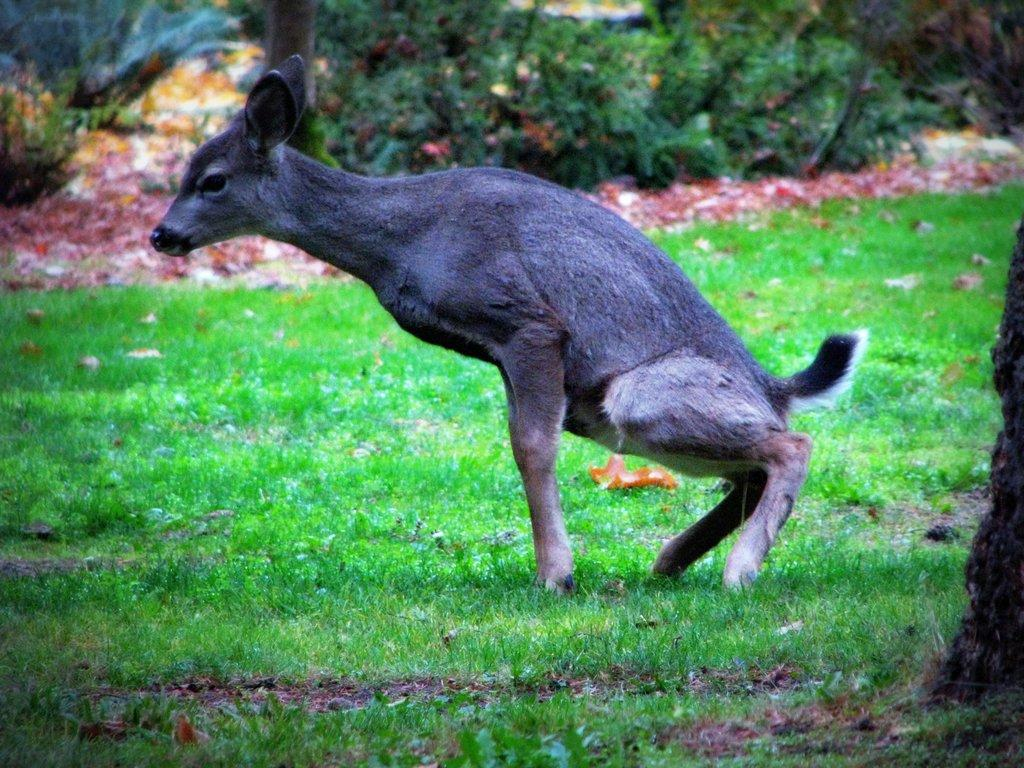kangaroo: (150, 53, 868, 590)
